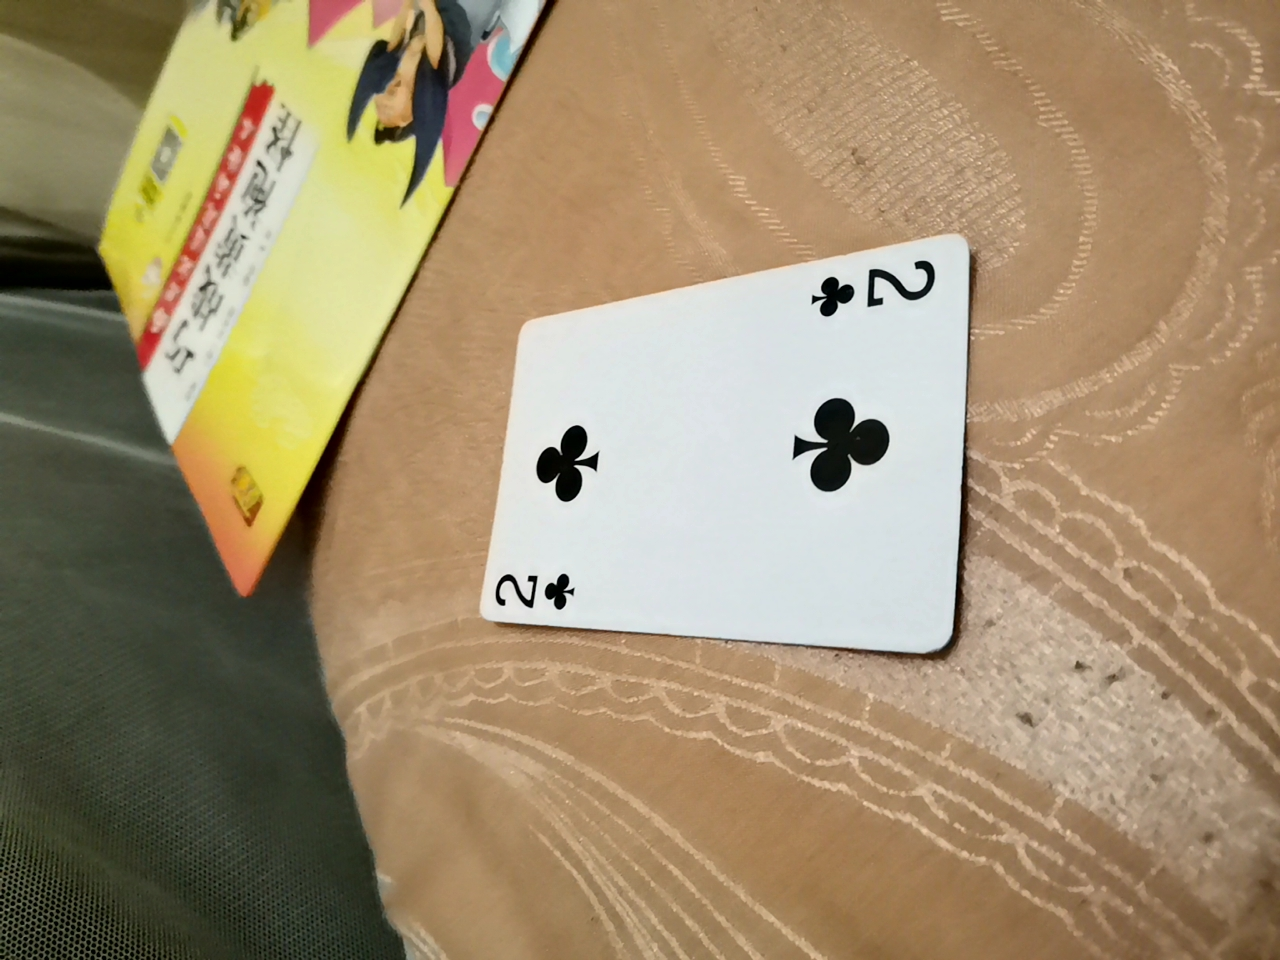mh 2: (473, 240, 965, 670)
